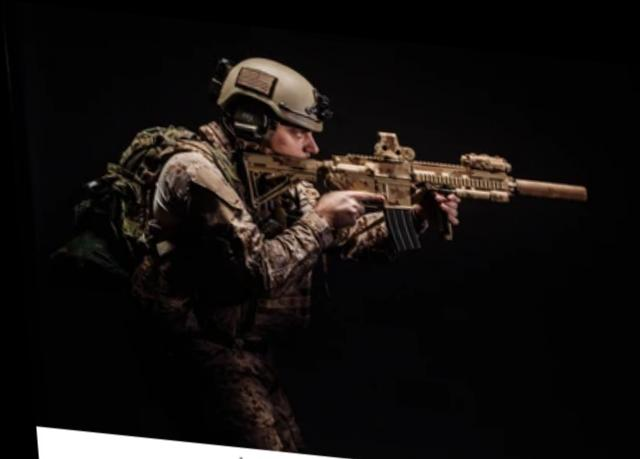other: (87, 35, 400, 434)
